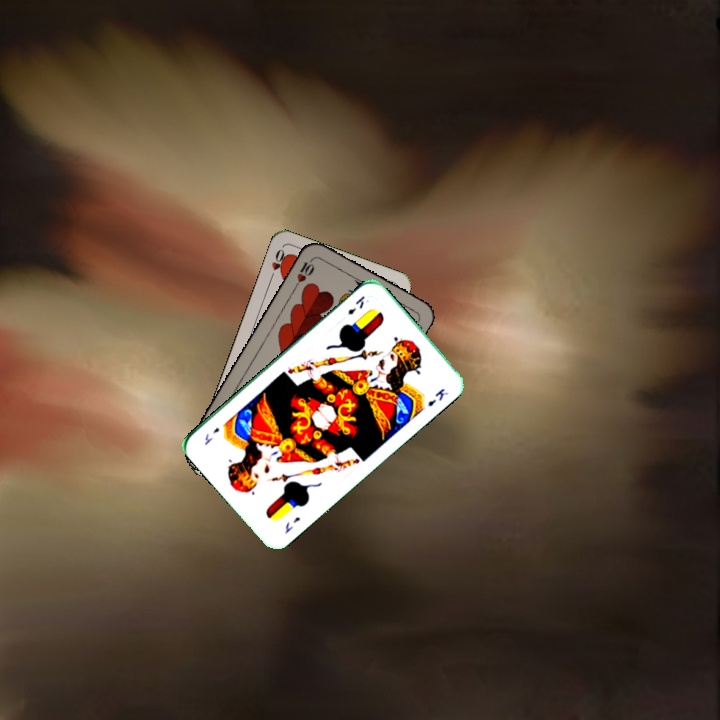EK: (344, 292, 367, 317), (281, 513, 303, 536)
H10: (291, 254, 317, 291)
HO: (265, 245, 290, 283)
